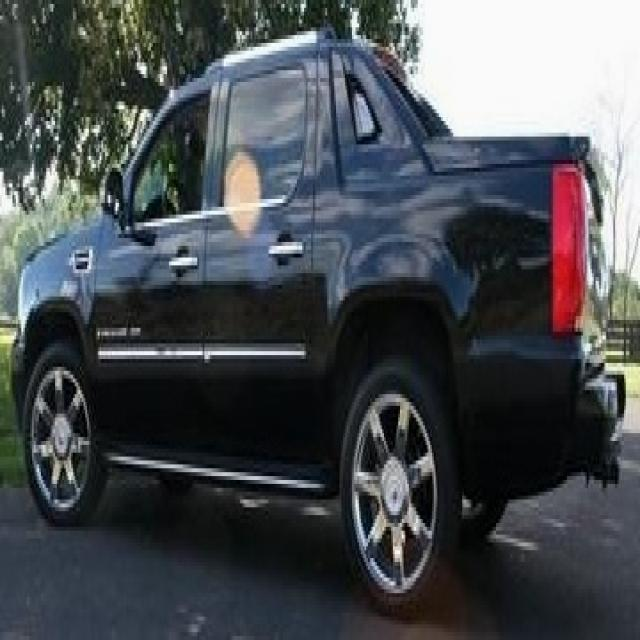CMT: (9, 24, 608, 588)
